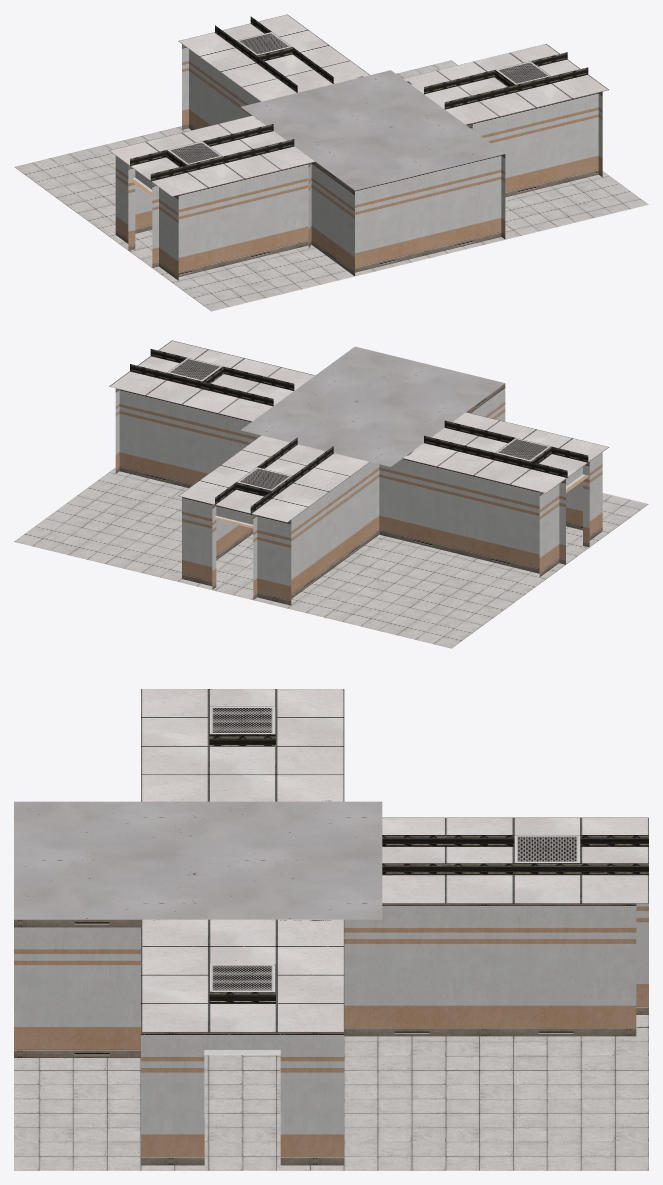
The model's file is RZ_room3.obj.
3 views of the same model, one above another, from view 1: azimuth 30°, elevation 25°; view 2: azimuth 150°, elevation 25°; view 3: azimuth 270°, elevation 25° (orthographic). The views are drawn at different scales.
Parts seen in each view (by area): view 1: OZ_room3; view 2: OZ_room3; view 3: OZ_room3.
Boxes of the visible parts, <box> form: OZ_room3: <box>14,14,648,311</box>; OZ_room3: <box>14,340,648,648</box>; OZ_room3: <box>14,689,648,1170</box>.
Size of the model in its own units: 20.48 by 4.16 by 16.
